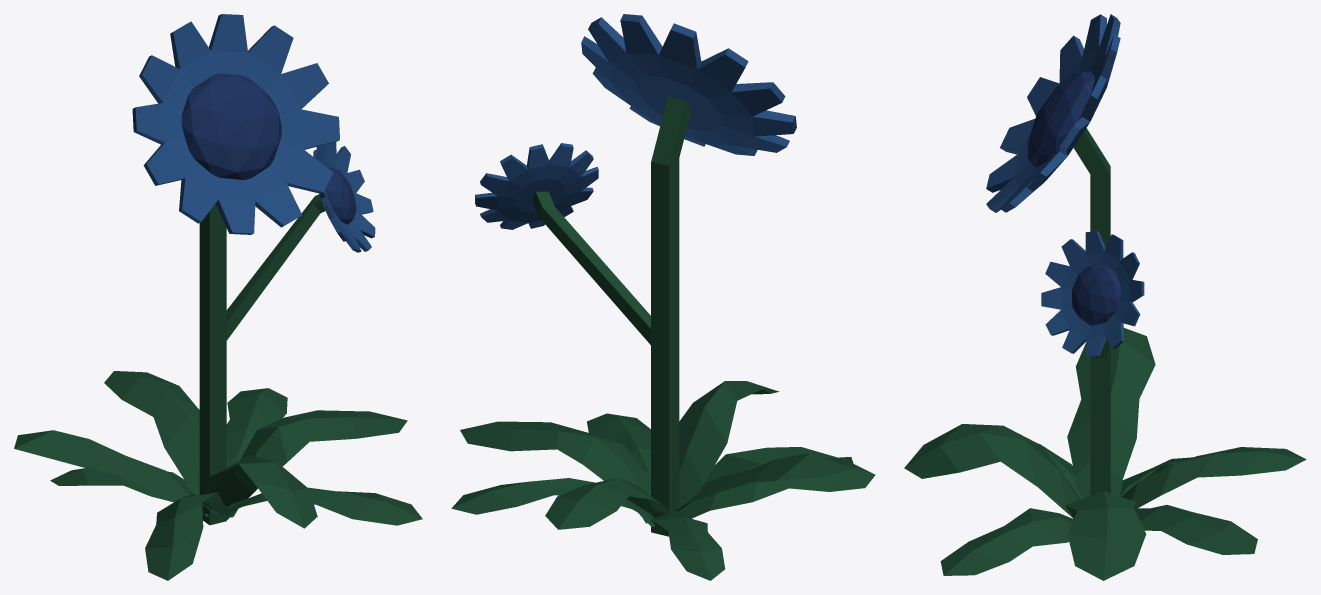
The model's file is Chicory.fbx.
3 views of the same model, side by side, from view 1: azimuth 30°, elevation 25°; view 2: azimuth 150°, elevation 25°; view 3: azimuth 270°, elevation 25° (orthographic). The views are drawn at different scales.
Visible parts, largest first — view 1: Chicory_LOD0; view 2: Chicory_LOD0; view 3: Chicory_LOD0.
Boxes of the visible parts, left/top/right/bottom form: Chicory_LOD0: left=14, top=14, right=422, bottom=580; Chicory_LOD0: left=451, top=14, right=875, bottom=580; Chicory_LOD0: left=904, top=14, right=1306, bottom=580.
Size of what is drawn, in the model's own units: 162 by 199 by 143.
